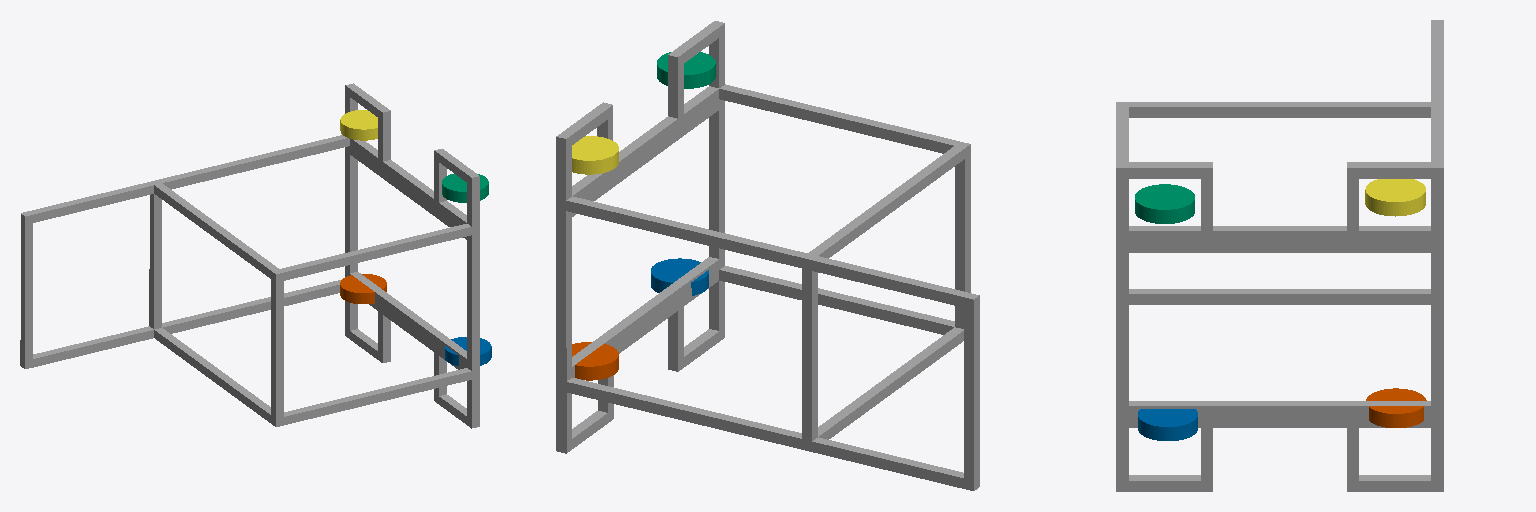
The robot description file, URDF, robot "urdf_base":
<?xml version="1.0" ?>
<robot name="urdf_base">

<link name="base_footprint">
  
</link>

  

<link name="base_link">
  <inertial>
    <origin xyz="0.05 0 0.10" rpy="0 0 0"/>
    <mass value="19"/>
    <inertia ixx="0.01" iyy="0.01" izz="0.01" ixy="0" iyz="0" ixz="0"/>
  </inertial>
  <visual>
    <origin xyz="0 0 -0.15" rpy="0 -1.57 0"/>
    <geometry>
      <mesh filename="package://urdf_base_description/meshes/base_link.stl" scale="0.001 0.001 0.001"/>
    </geometry>
    <material name="silver">
      <color rgba="0.700 0.700 0.700 1.000"/>
    </material>

  </visual>
  <collision>
    <origin xyz="0 0 -0.15" rpy="0 -1.57 0"/>
    <geometry>
      <mesh filename="package://urdf_base_description/meshes/base_link.stl" scale="0.001 0.001 0.001"/>
    </geometry>
  </collision>
</link>

<link name="fr_wheel_link">
  <inertial>
    <origin xyz="0 0 0.10" rpy="0 0 0"/>
    <mass value="0.5"/>
    <inertia ixx="0.01" iyy="0.01" izz="0.01" ixy="0" iyz="0" ixz="0"/>
  </inertial>
  <visual>
    <origin xyz="-0.02 0 -0.1" rpy="0 -1.57 0"/>
    <geometry>
      <mesh filename="package://urdf_base_description/meshes/wheel_1_1.stl" scale="0.001 0.001 0.001"/>
    </geometry>
    

  </visual>
  <collision>
    <origin xyz="-0.02 0 -0.1" rpy="0 -1.57 0"/>
    <geometry>
      <mesh filename="package://urdf_base_description/meshes/wheel_1_1.stl" scale="0.001 0.001 0.001"/>
    </geometry>
  </collision>
</link>

<link name="fl_wheel_link">
  <inertial>
    <origin xyz="0 0 0.10" rpy="0 0 0"/>
    <mass value="0.5"/>
    <inertia ixx="0.01" iyy="0.01" izz="0.01" ixy="0" iyz="0" ixz="0"/>
  </inertial>
  <visual>
    <origin xyz="-0.05 0.001 -0.12" rpy="0 -1.57 0"/>
    <geometry>
      <mesh filename="package://urdf_base_description/meshes/wheel_2_1.stl" scale="0.001 0.001 0.001"/>
    </geometry>
    

  </visual>
  <collision>
    <origin xyz="-0.05 0.001 -0.12" rpy="0 -1.57 0"/>
    <geometry>
      <mesh filename="package://urdf_base_description/meshes/wheel_2_1.stl" scale="0.001 0.001 0.001"/>
    </geometry>
  </collision>
</link>

<link name="bl_wheel_link">
  <inertial>
    <origin xyz="0 0 0.10" rpy="0 0 0"/>
    <mass value="0.5"/>
    <inertia ixx="0.01" iyy="0.01" izz="0.01" ixy="0" iyz="0" ixz="0"/>
  </inertial>
  <visual>
    <origin xyz="-0.01 0.005 -0.105" rpy="0 -1.57 0"/>
    <geometry>
      <mesh filename="package://urdf_base_description/meshes/wheel_3_1.stl" scale="0.001 0.001 0.001"/>
    </geometry>
    

  </visual>
  <collision>
    <origin xyz="-0.01 0.005 -0.105" rpy="0 -1.57 0"/>
    <geometry>
      <mesh filename="package://urdf_base_description/meshes/wheel_3_1.stl" scale="0.001 0.001 0.001"/>
    </geometry>
  </collision>
</link>

<link name="br_wheel_link">
  <inertial>
    <origin xyz="0 0 0.10" rpy="0 0 0"/>
    <mass value="0.5"/>
    <inertia ixx="0.01" iyy="0.01" izz="0.01" ixy="0" iyz="0" ixz="0"/>
  </inertial>
  <visual>
    <origin xyz="-0.05 0.002 -0.12" rpy="0 -1.57 0"/>
    <geometry>
      <mesh filename="package://urdf_base_description/meshes/wheel_4_1.stl" scale="0.001 0.001 0.001"/>
    </geometry>
    

  </visual>
  <collision>
    <origin xyz="-0.05 0.002 -0.12" rpy="0 -1.57 0"/>
    <geometry>
      <mesh filename="package://urdf_base_description/meshes/wheel_4_1.stl" scale="0.001 0.001 0.001"/>
    </geometry>
  </collision>
</link>

<joint name="footprint_joint" type="fixed">
  <origin xyz="0 0 0" rpy="0.0 0.0 0.0"/>
  <parent link="base_footprint"/>
  <child link="base_link"/>
  <axis xyz="0.0 0.0 0.0"/>
</joint>

<joint name="fl_joint" type="continuous">
  <origin xyz="0.04 0 0.01" rpy="0.0 0.0 0.0"/>
  <parent link="base_link"/>
  <child link="fl_wheel_link"/>
  <axis xyz="0.0 0.0 1.0"/>
</joint>

<joint name="fr_joint" type="continuous">
  <origin xyz="0.04 0 -0.01" rpy="0.0 0.0 0.0"/>
  <parent link="base_link"/>
  <child link="fr_wheel_link"/>
  <axis xyz="0.0 0.0 1.0"/>
</joint>

<joint name="bl_joint" type="continuous">
  <origin xyz="0.04 0 -0.01" rpy="0.0 0.0 0.0"/>
  <parent link="base_link"/>
  <child link="bl_wheel_link"/>
  <axis xyz="0.0 0.0 1.0"/>
</joint>

<joint name="br_joint" type="continuous">
  <origin xyz="0.04 0 0.01" rpy="0.0 0.0 0.0"/>
  <parent link="base_link"/>
  <child link="br_wheel_link"/>
  <axis xyz="0.0 0.0 1.0"/>
</joint>


<gazebo>
  <plugin name='skid_steer_drive' filename='libgazebo_ros_diff_drive.so'>

        <ros>
          <namespace>/demo</namespace>
          <argument>cmd_vel:=cmd_demo</argument>
          <argument>odom:=odom_demo</argument>
        </ros>

        <!-- Number of wheel pairs -->
        <num_wheel_pairs>2</num_wheel_pairs>
        
        <!-- wheels0 -->
        <left_joint>fl_joint</left_joint>
        <right_joint>fr_joint</right_joint>

        <!-- wheels1-->
        <left_joint>bl_joint</left_joint>
        <right_joint>br_joint</right_joint>

        <!-- kinematics -->
        <wheel_separation>0.5</wheel_separation>
        <wheel_separation>0.5</wheel_separation>

        <wheel_diameter>0.1</wheel_diameter>
        <wheel_diameter>0.1</wheel_diameter>

        <!-- limits -->
        <max_wheel_torque>20</max_wheel_torque>
        <max_wheel_acceleration>1.0</max_wheel_acceleration>

        <!-- output -->
        <publish_odom>true</publish_odom>
        <publish_odom_tf>true</publish_odom_tf>
        <publish_wheel_tf>true</publish_wheel_tf>

        <odometry_frame>odom_demo</odometry_frame>
        <robot_base_frame>base_link</robot_base_frame>

  </plugin>
</gazebo>
<!-- <gazebo>
  <plugin name="control" filename="libgazebo_ros_control.so"/>
</gazebo> -->
<gazebo reference="base_link">
  <material name="silver">
    <color rgba="0.700 0.700 0.700 1.000"/>
  </material>

  <mu1>0.2</mu1>
  <mu2>0.2</mu2>
  <self_collide>true</self_collide>
  <gravity>true</gravity>
</gazebo>

</robot>

--- Facts derived from the render (not from the file) ---
Views: 3 orthographic renders of the robot side by side, from view 1: azimuth 30°, elevation 25°; view 2: azimuth 150°, elevation 25°; view 3: azimuth 270°, elevation 25°.
Model urdf_base with 6 links and 5 joints (4 continuous, 1 fixed), rooted at base_footprint, posed all joints at 0.
Links seen in each view (by area): view 1: base_link, fl_wheel_link, br_wheel_link, fr_wheel_link, bl_wheel_link; view 2: base_link, fl_wheel_link, br_wheel_link, bl_wheel_link, fr_wheel_link; view 3: base_link, fr_wheel_link, fl_wheel_link, bl_wheel_link, br_wheel_link.
Link boxes in pixels (x1,y1,x2,y2): base_link: [20, 83, 479, 428]; fl_wheel_link: [340, 110, 377, 140]; br_wheel_link: [340, 274, 386, 303]; fr_wheel_link: [442, 174, 488, 202]; bl_wheel_link: [445, 337, 491, 365]; base_link: [556, 21, 979, 490]; fl_wheel_link: [572, 136, 618, 174]; br_wheel_link: [572, 342, 618, 380]; bl_wheel_link: [651, 258, 708, 295]; fr_wheel_link: [657, 52, 715, 88]; base_link: [1116, 20, 1443, 491]; fr_wheel_link: [1135, 184, 1194, 223]; fl_wheel_link: [1365, 179, 1425, 216]; bl_wheel_link: [1138, 409, 1197, 440]; br_wheel_link: [1366, 388, 1426, 427].
Bounding box of the posed robot: 0.8899 × 0.54 × 0.5902 m (x, y, z).
5 mesh visuals loaded from 5 distinct referenced files (5 binary STL).
